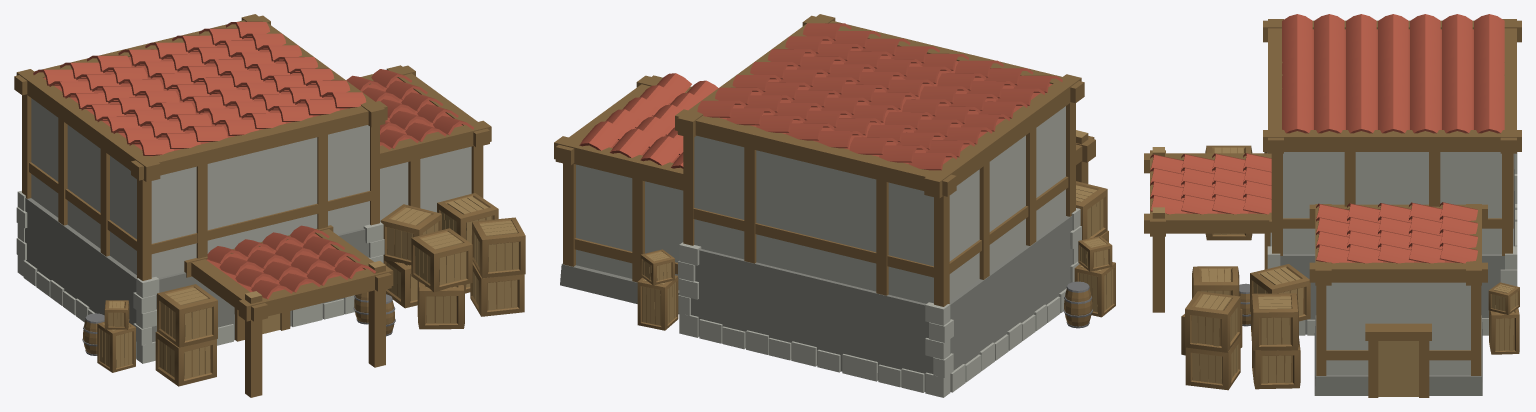
File: Business Building.glb
3 views of the same model, side by side, from view 1: azimuth 30°, elevation 25°; view 2: azimuth 150°, elevation 25°; view 3: azimuth 270°, elevation 25° (orthographic). The views are drawn at different scales.
Parts seen in each view (by area): view 1: Storage_SecondAge_Level3; view 2: Storage_SecondAge_Level3; view 3: Storage_SecondAge_Level3.
Boxes of the visible parts, x1=… form: Storage_SecondAge_Level3: x1=14, y1=14, x2=525, y2=397; Storage_SecondAge_Level3: x1=554, y1=14, x2=1115, y2=397; Storage_SecondAge_Level3: x1=1144, y1=14, x2=1521, y2=397.
Size of the model in its own units: 1.81 by 0.8991 by 1.43.
